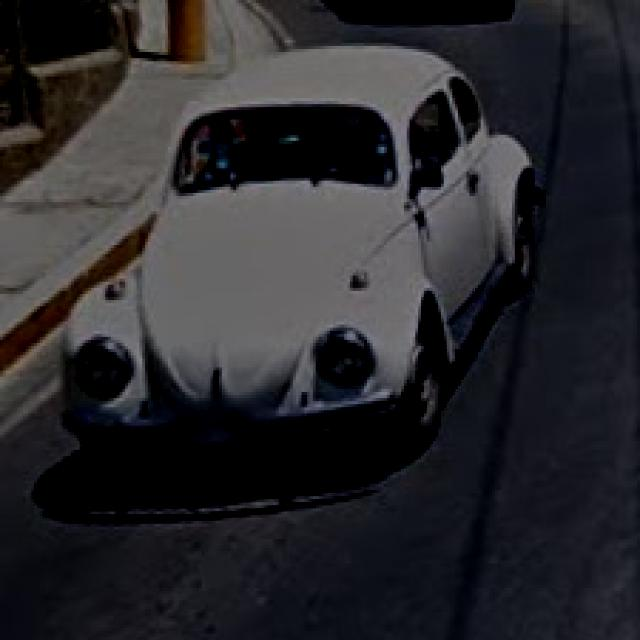car: (73, 49, 533, 480)
